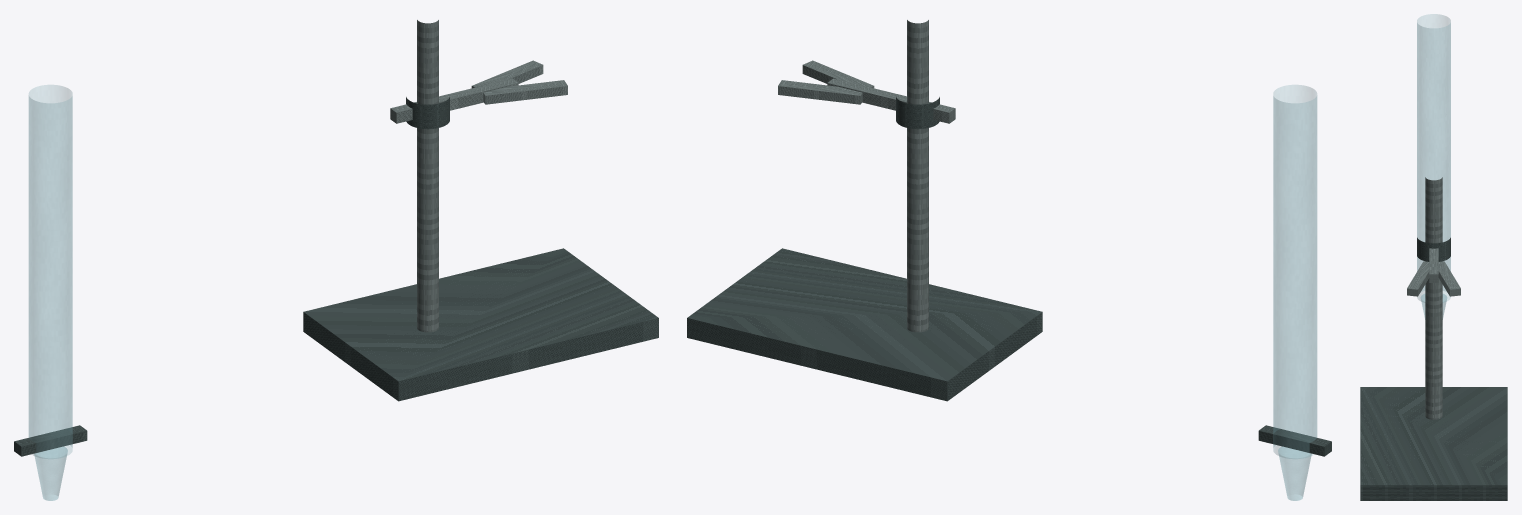
File: alat-26.glb
3 views of the same model, side by side, from view 1: azimuth 30°, elevation 25°; view 2: azimuth 150°, elevation 25°; view 3: azimuth 270°, elevation 25° (orthographic). The views are drawn at different scales.
Parts seen in each view (by area): view 1: box-0, toolPart-6, cylinder-1, box-2, box-5, toolPart-7, toolPart-8, cylinder-3, box-4; view 2: box-0, toolPart-6, cylinder-1, box-2, box-4, toolPart-7, toolPart-8, cylinder-3, box-5; view 3: box-0, toolPart-6, cylinder-1, cylinder-3, box-4, box-5, box-2.
Part boxes in pixels (x1,y1,x2,y2): box-0: (303,248,658,401); toolPart-6: (28,85,72,458); cylinder-1: (417,20,438,332); box-2: (390,78,518,123); box-5: (483,80,567,104); toolPart-7: (34,446,67,500); toolPart-8: (14,425,87,456); cylinder-3: (406,97,449,129); box-4: (471,60,543,88); box-0: (687,248,1042,401); toolPart-6: (1273,85,1317,458); cylinder-1: (907,20,928,332); box-2: (827,78,955,123); box-4: (778,80,862,104); toolPart-7: (1278,446,1311,500); toolPart-8: (1258,425,1331,456); cylinder-3: (896,97,939,129); box-5: (802,60,874,88); box-0: (1360,387,1507,500); toolPart-6: (1417,14,1450,302); cylinder-1: (1425,177,1442,419); cylinder-3: (1417,237,1450,261); box-4: (1438,261,1460,296); box-5: (1407,261,1429,296); box-2: (1429,248,1438,282).
Size of the model in its own units: 5.58 by 3.63 by 1.55.
9 materials, 9 textured.
